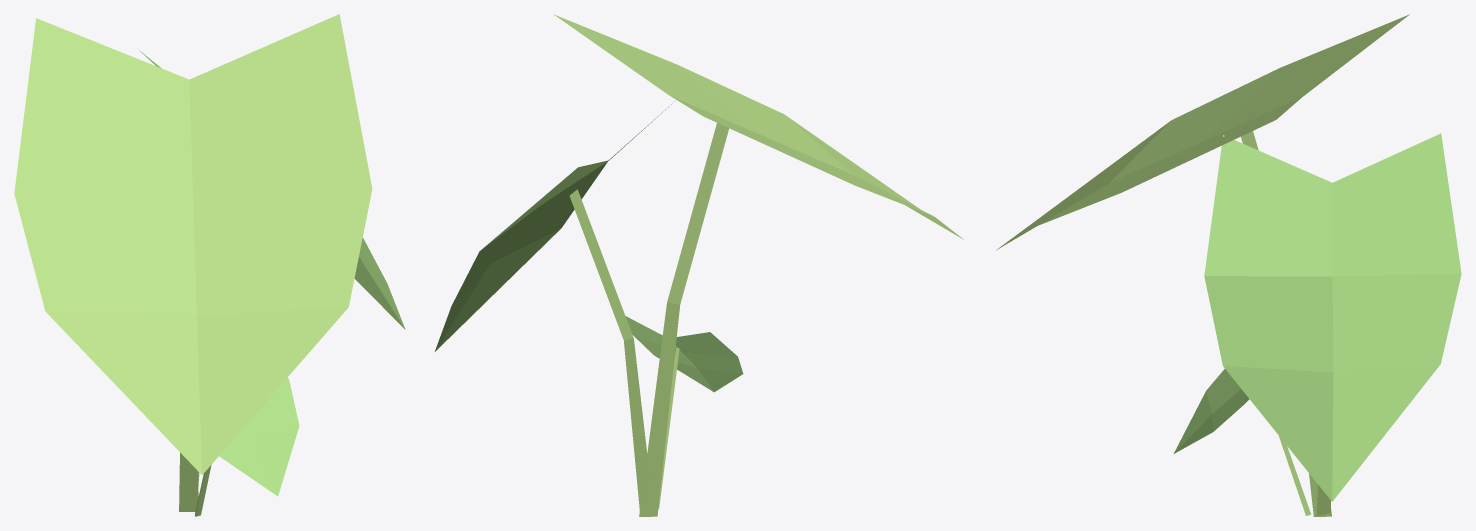
The model's file is Plant_c_OneS_03.fbx.
3 views of the same model, side by side, from view 1: azimuth 30°, elevation 25°; view 2: azimuth 150°, elevation 25°; view 3: azimuth 270°, elevation 25° (orthographic). The views are drawn at different scales.
Visible parts, largest first — view 1: Plant_c_OneS_03; view 2: Plant_c_OneS_03; view 3: Plant_c_OneS_03.
Boxes of the visible parts, x1,y1,x2,y2 form: Plant_c_OneS_03: [14, 14, 405, 516]; Plant_c_OneS_03: [435, 14, 963, 516]; Plant_c_OneS_03: [996, 14, 1461, 516].
Bounding box in the file's own units: 0.5374 × 0.5561 × 0.5205.
